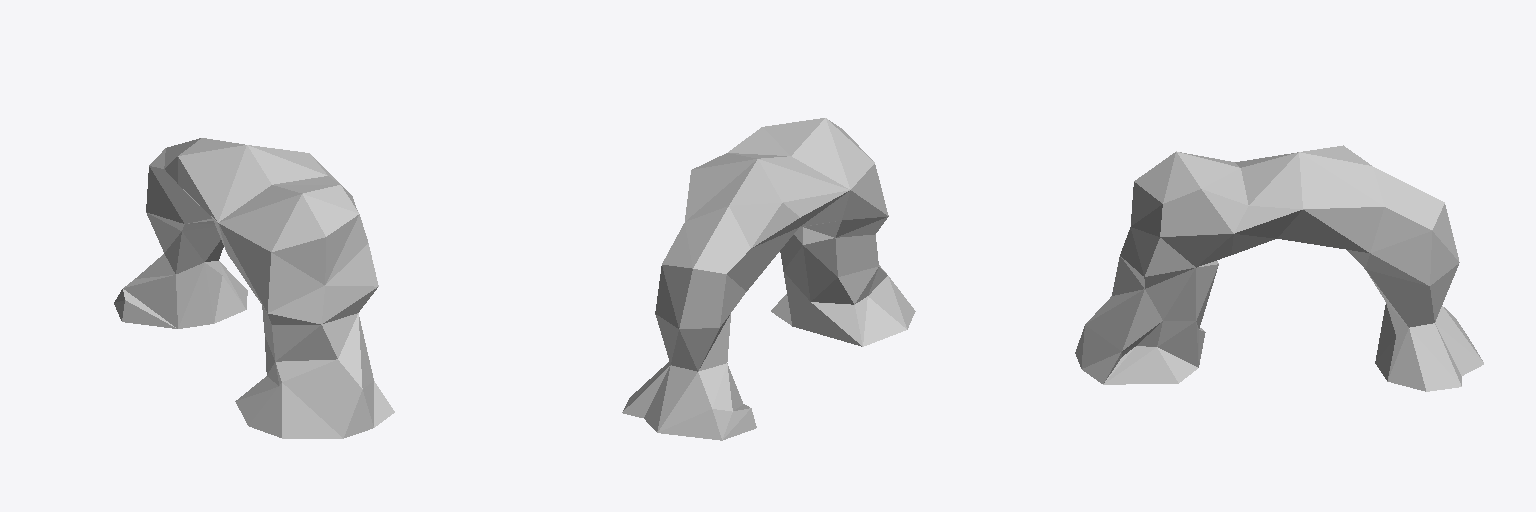
Rendered from rock_009_LOD2.obj.
The picture shows the model from 3 angles: view 1: azimuth 30°, elevation 25°; view 2: azimuth 150°, elevation 25°; view 3: azimuth 270°, elevation 25°; orthographic projection.
Visible parts, largest first — view 1: rock_009_LOD2 rock_009; view 2: rock_009_LOD2 rock_009; view 3: rock_009_LOD2 rock_009.
Part boxes in pixels (left/top/right/bottom): rock_009_LOD2 rock_009: left=114, top=138, right=394, bottom=438; rock_009_LOD2 rock_009: left=622, top=118, right=915, bottom=440; rock_009_LOD2 rock_009: left=1075, top=145, right=1483, bottom=391.
Size of the model in its own units: 732 by 988 by 1762.